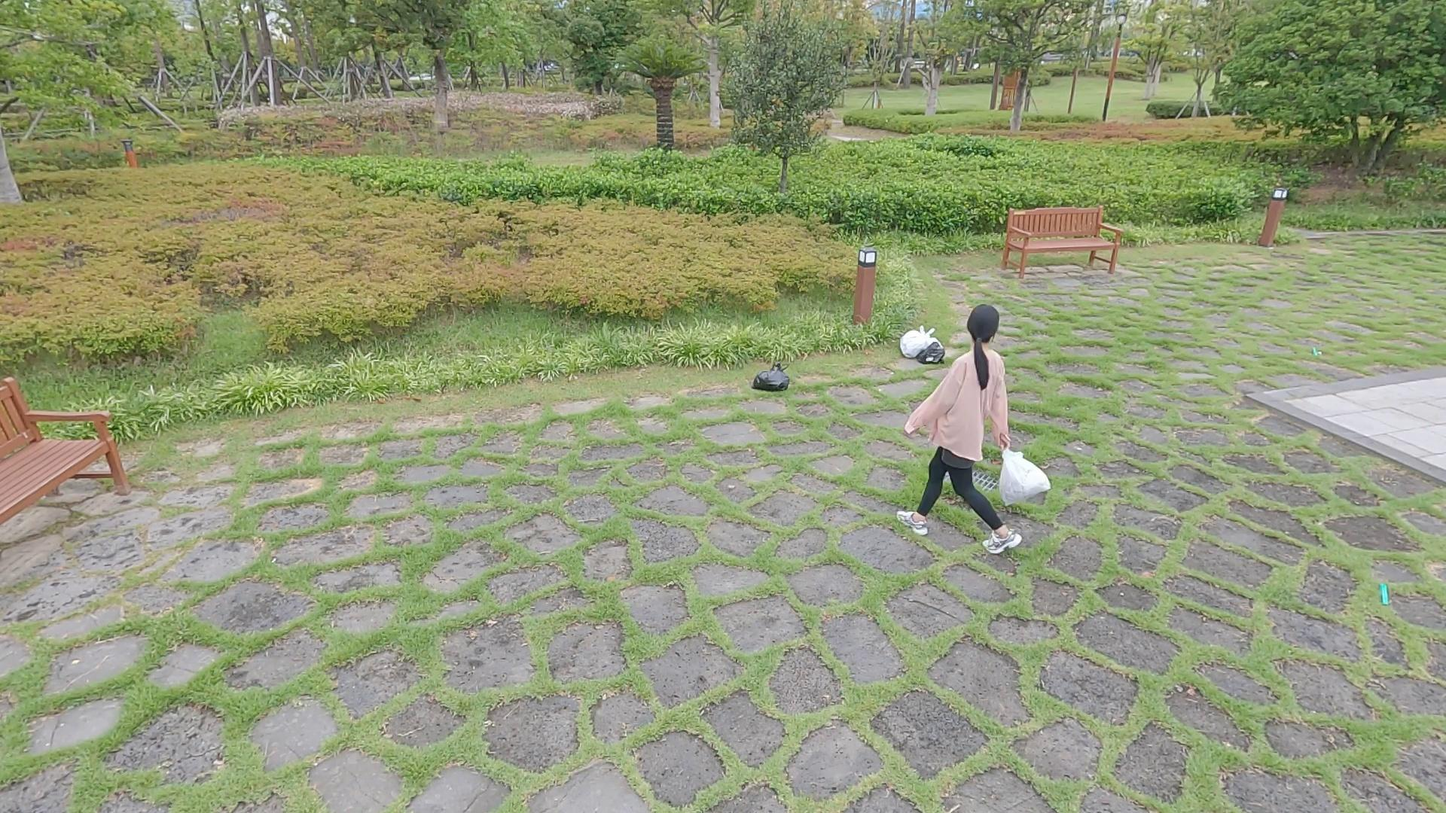person: (899, 304, 1031, 556)
trash: (992, 443, 1055, 510), (896, 319, 938, 358), (750, 357, 789, 397), (911, 336, 952, 373)
